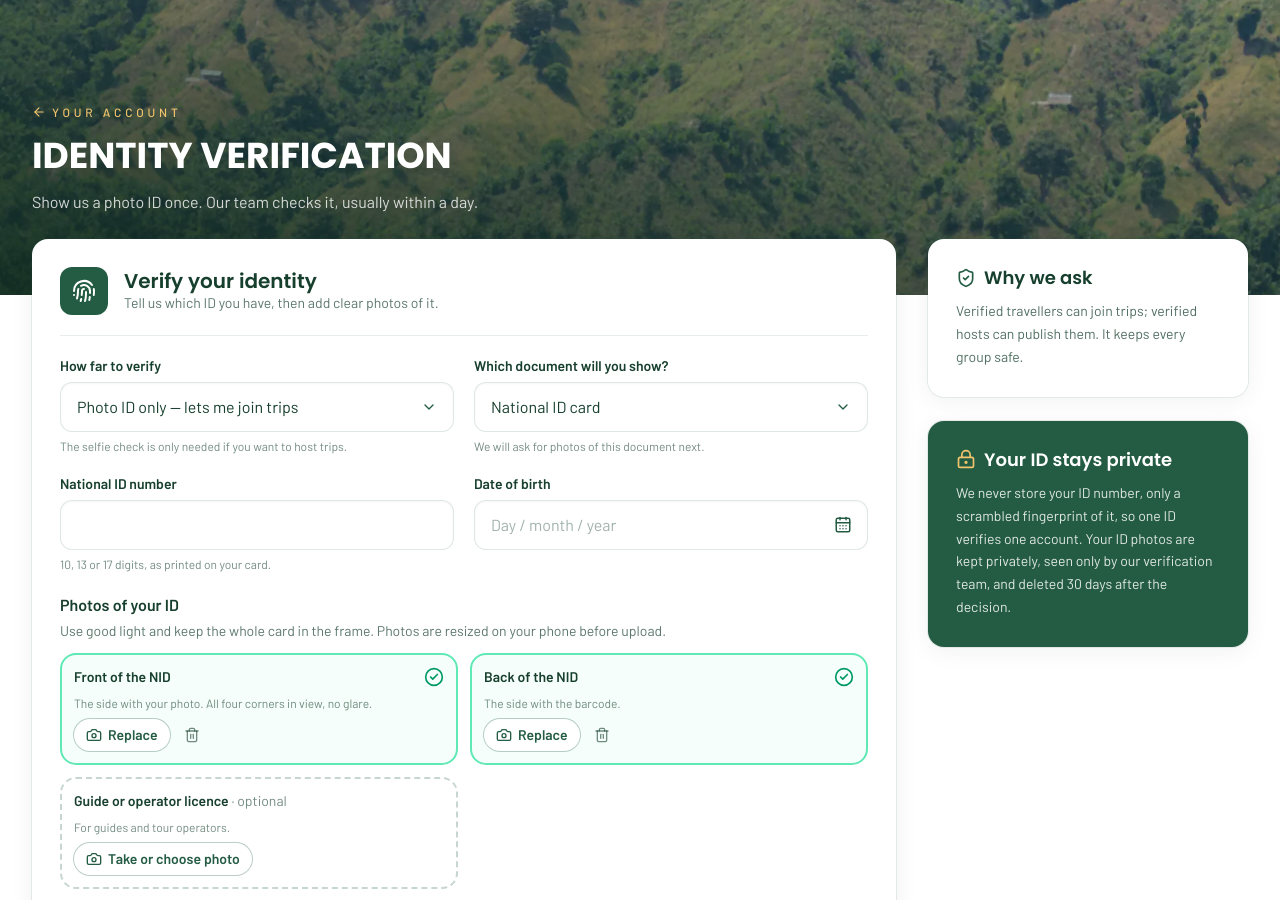
VerificationPage › sends the number, date of birth and photos, and shows the badge when approved
The width and height of the screenshot is (1280, 900).
Type "1234567890" into the field labelled "National ID number" at {"x": 257, "y": 525}, box top-left (60, 500), bottom-right (454, 550)
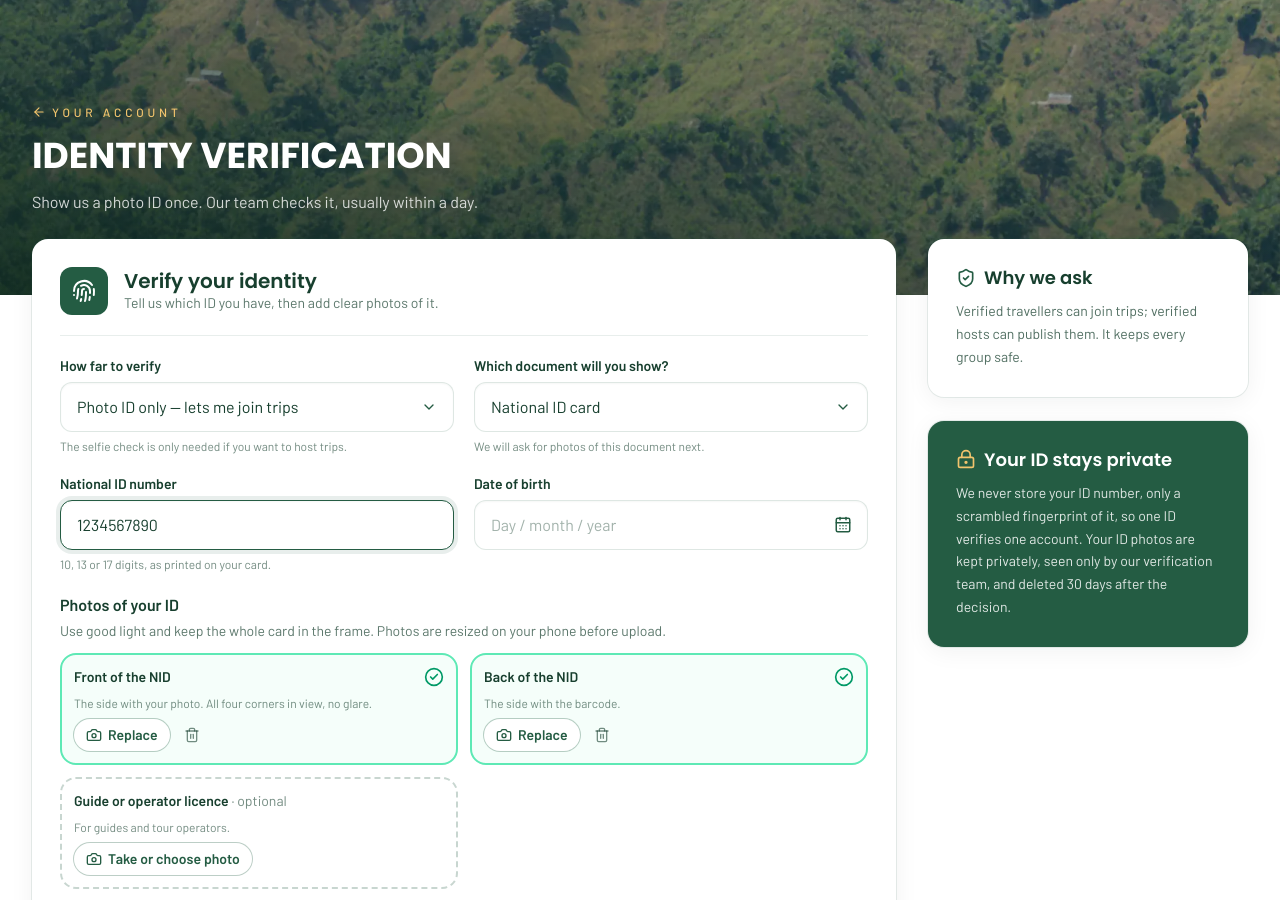
Type "1995-04-12" into the dropdown labelled "Date of birth" at {"x": 671, "y": 525}, box top-left (474, 500), bottom-right (868, 550)
(page scrolled)
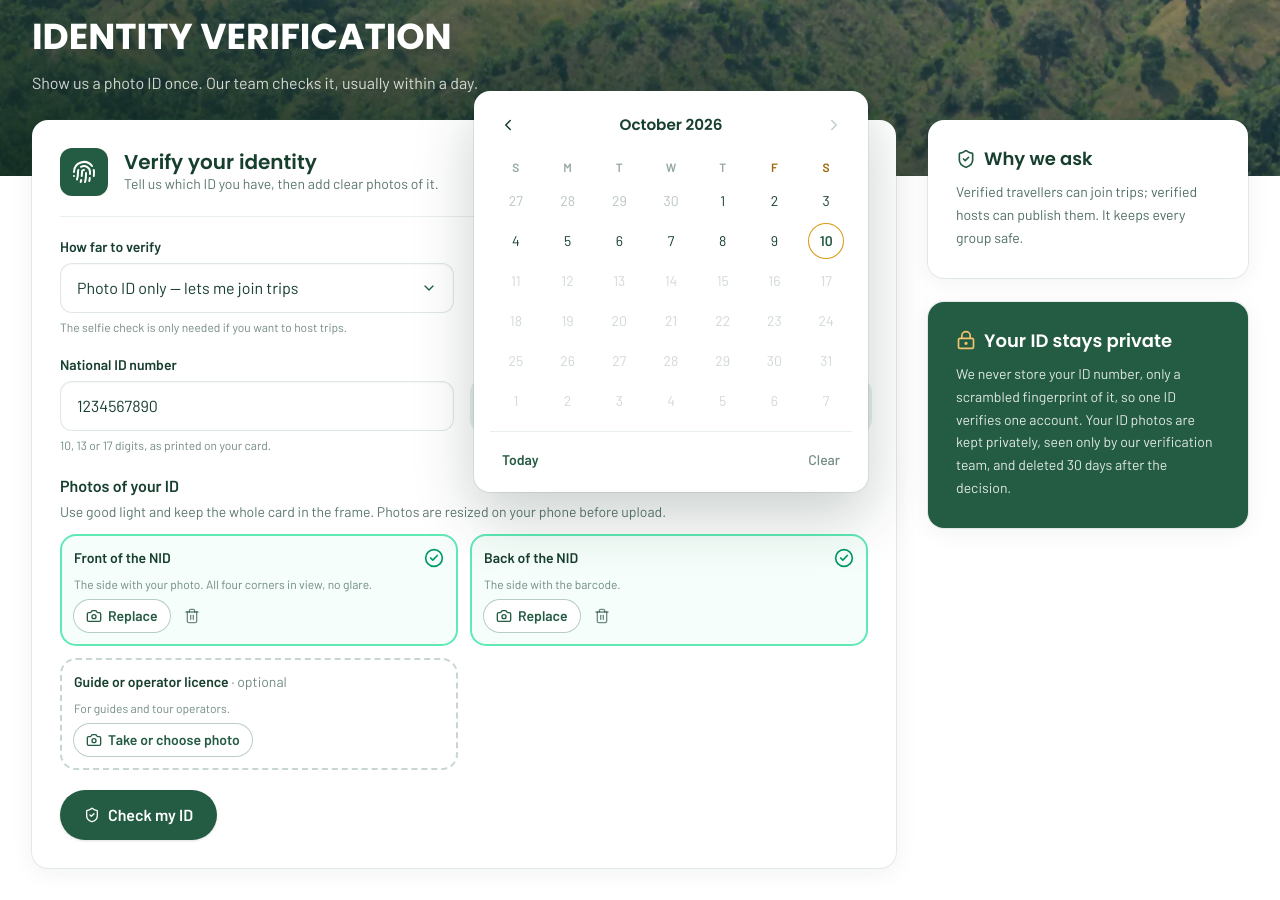
Click the button "Check my ID" at {"x": 139, "y": 815}, box top-left (60, 790), bottom-right (217, 840)
(page scrolled)
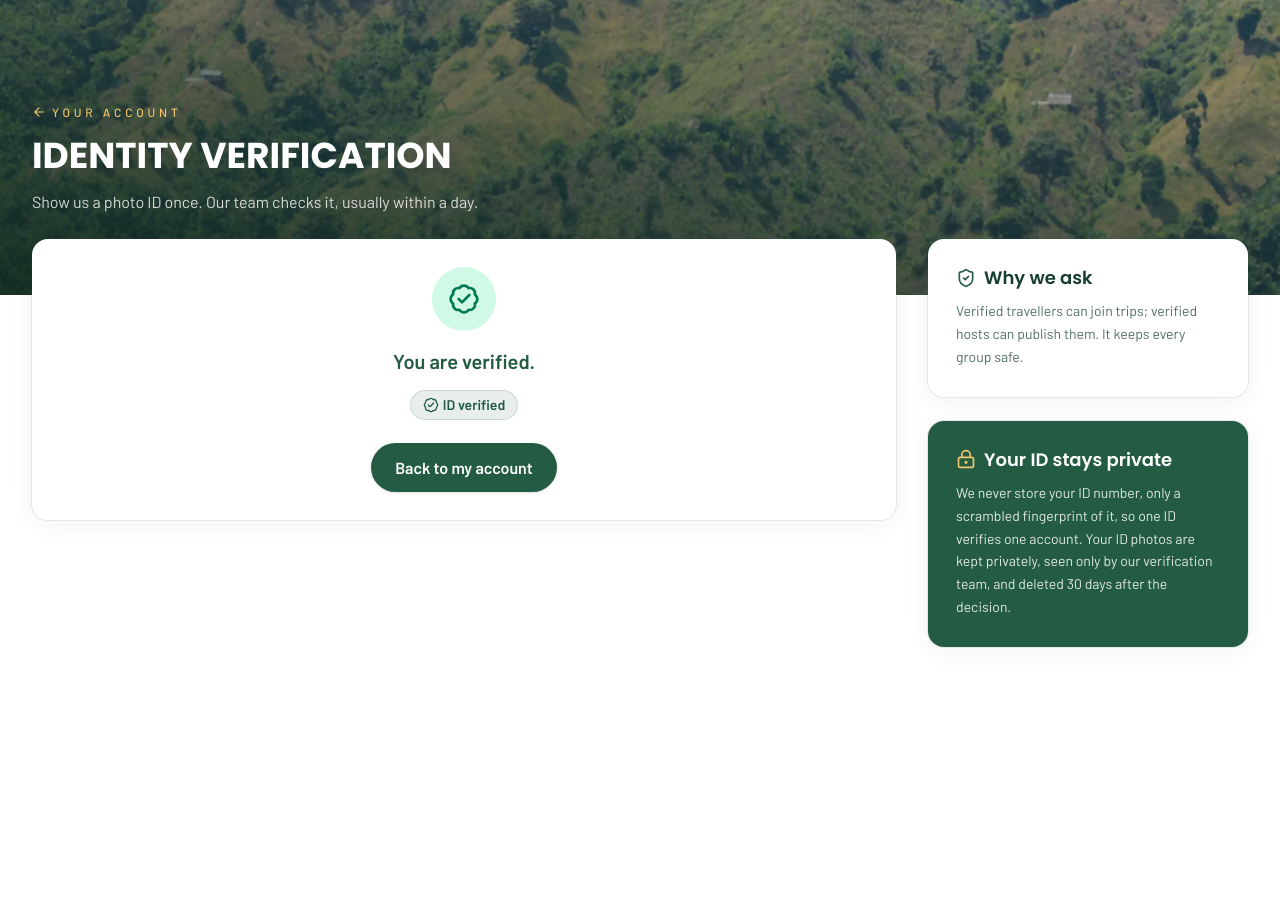
Expected: the text "You are verified." is shown, top-left (393, 347), bottom-right (535, 375)
